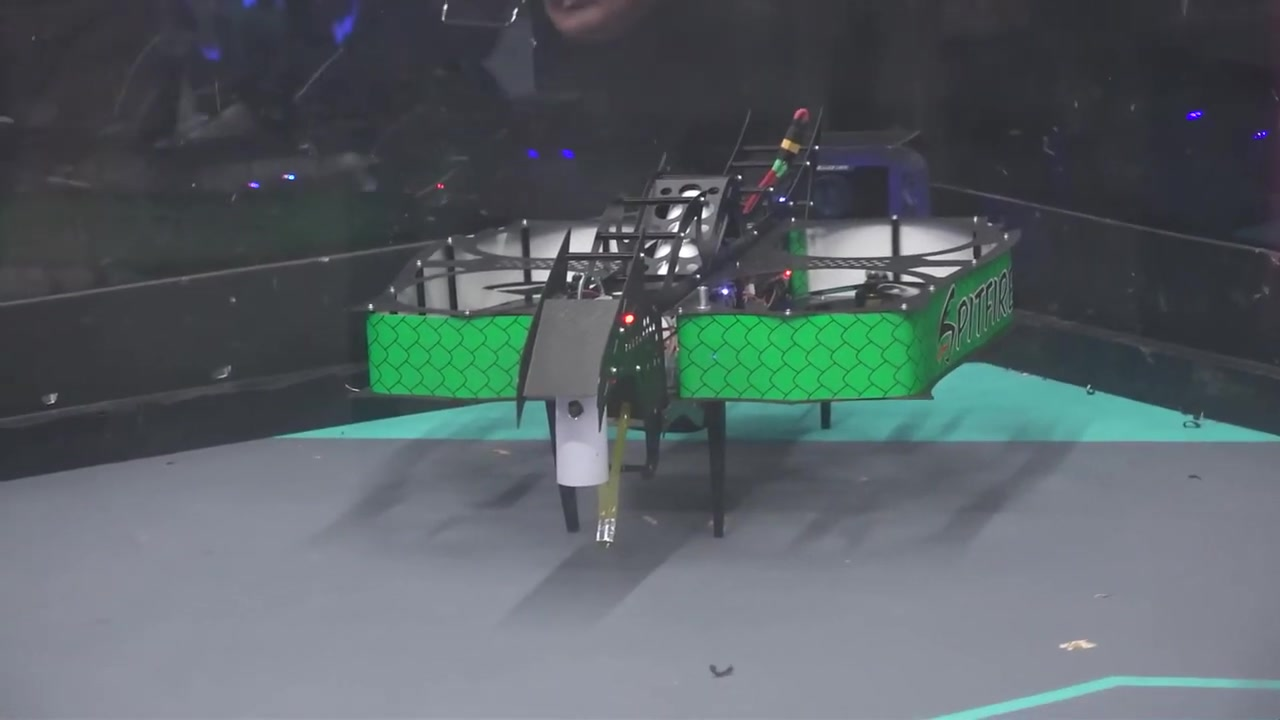combatbot: (348, 104, 1023, 536)
